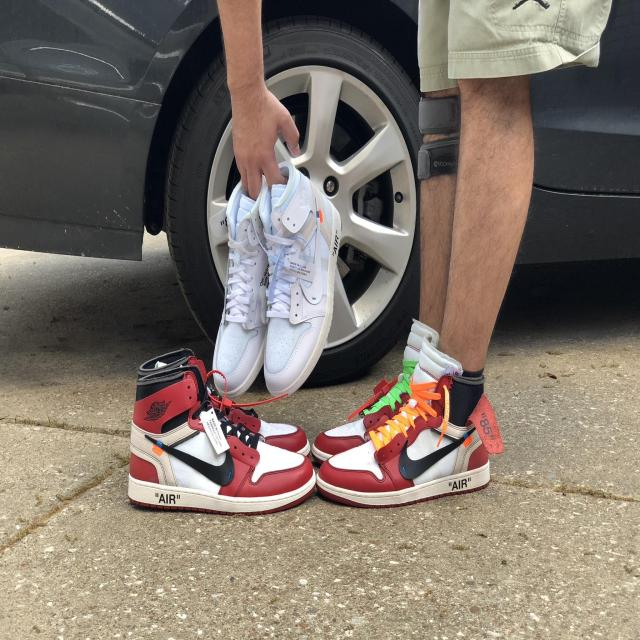shoe: (154, 148, 374, 387), (336, 312, 571, 533), (99, 429, 353, 567)
